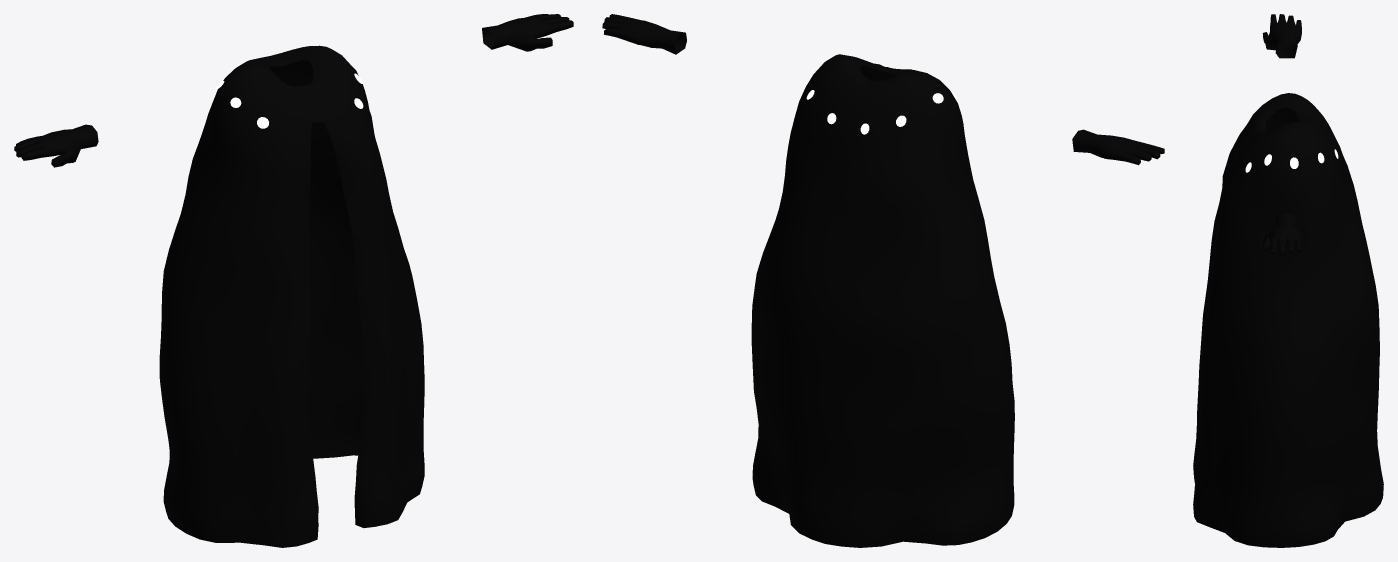
File: Reaper-Black_Body.glb
The picture shows the model from 3 angles, left to right: view 1: azimuth 30°, elevation 25°; view 2: azimuth 150°, elevation 25°; view 3: azimuth 270°, elevation 25°; orthographic projection. The views are drawn at different scales.
Parts seen in each view (by area): view 1: Reaper-Bleck-Body; view 2: Reaper-Bleck-Body; view 3: Reaper-Bleck-Body.
Part boxes in pixels (box(x1,y1,x2,y2)): Reaper-Bleck-Body: box(14, 14, 573, 547); Reaper-Bleck-Body: box(602, 14, 1164, 547); Reaper-Bleck-Body: box(1193, 14, 1383, 547).
Size of what is drawn, in the model's own units: 1.83 by 1.4 by 0.623.
1 material, 1 textured.
